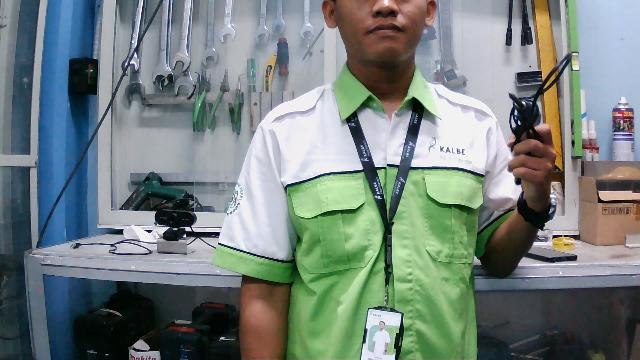solder_electrical: (495, 51, 575, 185)
